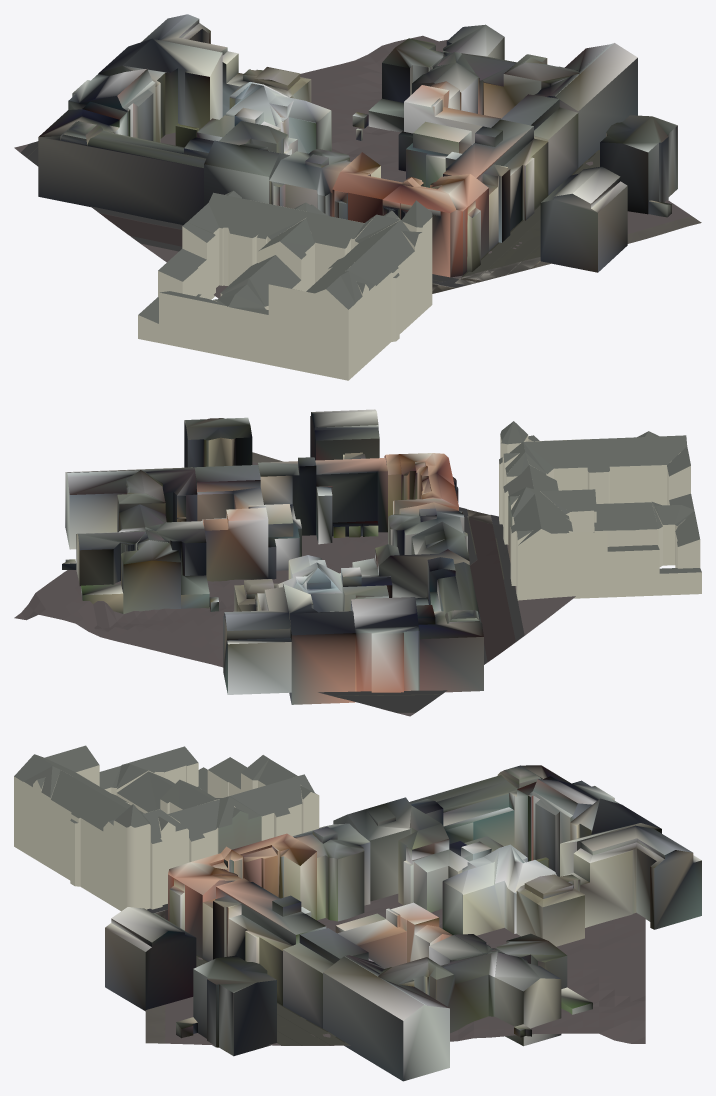
The picture shows the model from 3 angles, top to bottom: view 1: azimuth 30°, elevation 25°; view 2: azimuth 150°, elevation 25°; view 3: azimuth 270°, elevation 25°; orthographic projection. The views are drawn at different scales.
Visible parts, largest first — view 1: c_m06_p05; view 2: c_m06_p05; view 3: c_m06_p05.
Part boxes in pixels (x1,y1,x2,y2): c_m06_p05: [14, 14, 701, 380]; c_m06_p05: [14, 409, 701, 716]; c_m06_p05: [14, 745, 701, 1081].
Size of the model in its own units: 176 by 31.51 by 176.
